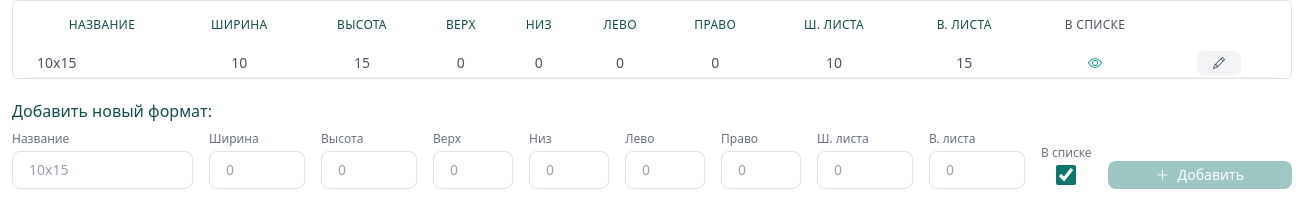
saves a valid edited format through API
Click the button titled "Редактировать": [1219, 63] box [1197, 51, 1241, 75]
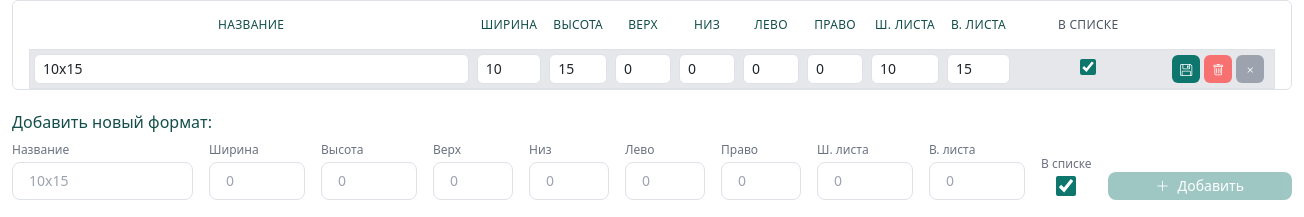
Replace the text in the field showing "10x15" with "Updated": [251, 69] box [34, 54, 469, 84]
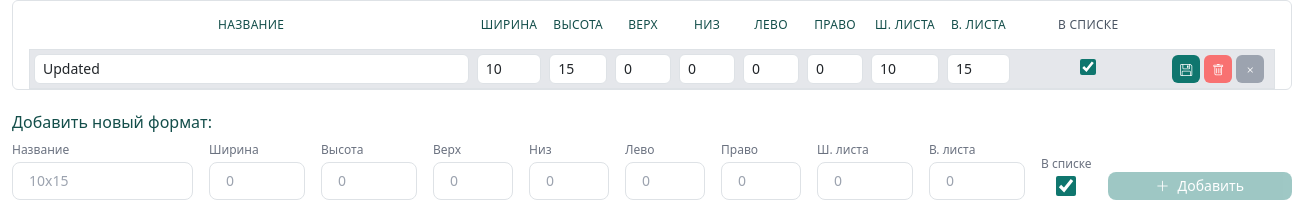
Click the button titled "Сохранить": [1186, 69] box [1172, 55, 1200, 83]
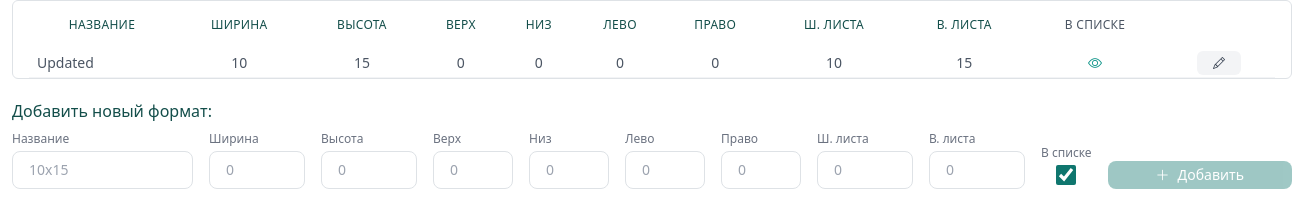
Now the button titled "Сохранить" is gone
